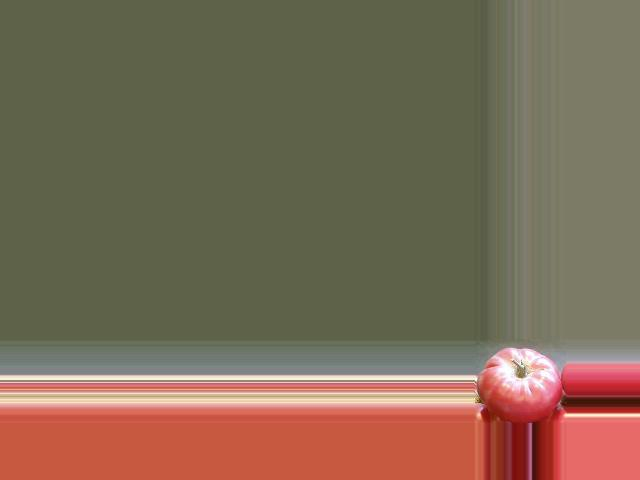tomato: (476, 348, 561, 423)
